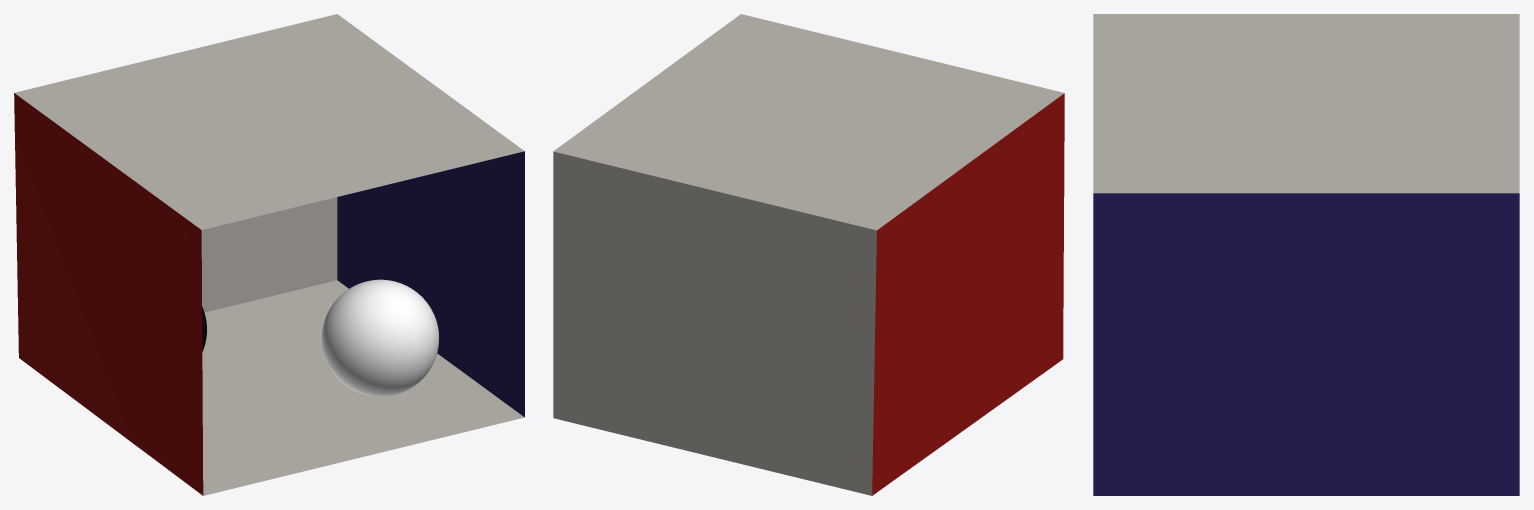
File: CornellBox.obj
The picture shows the model from 3 angles, left to right: view 1: azimuth 30°, elevation 25°; view 2: azimuth 150°, elevation 25°; view 3: azimuth 270°, elevation 25°; orthographic projection. The views are drawn at different scales.
Parts seen in each view (by area): view 1: CornellBox-Sphere; view 2: CornellBox-Sphere; view 3: CornellBox-Sphere.
Part boxes in pixels (bbox=[...]): CornellBox-Sphere: bbox=[14, 14, 524, 495]; CornellBox-Sphere: bbox=[553, 14, 1064, 495]; CornellBox-Sphere: bbox=[1093, 14, 1519, 495].
Bounding box in the file's own units: 2.02 × 1.59 × 2.03.
